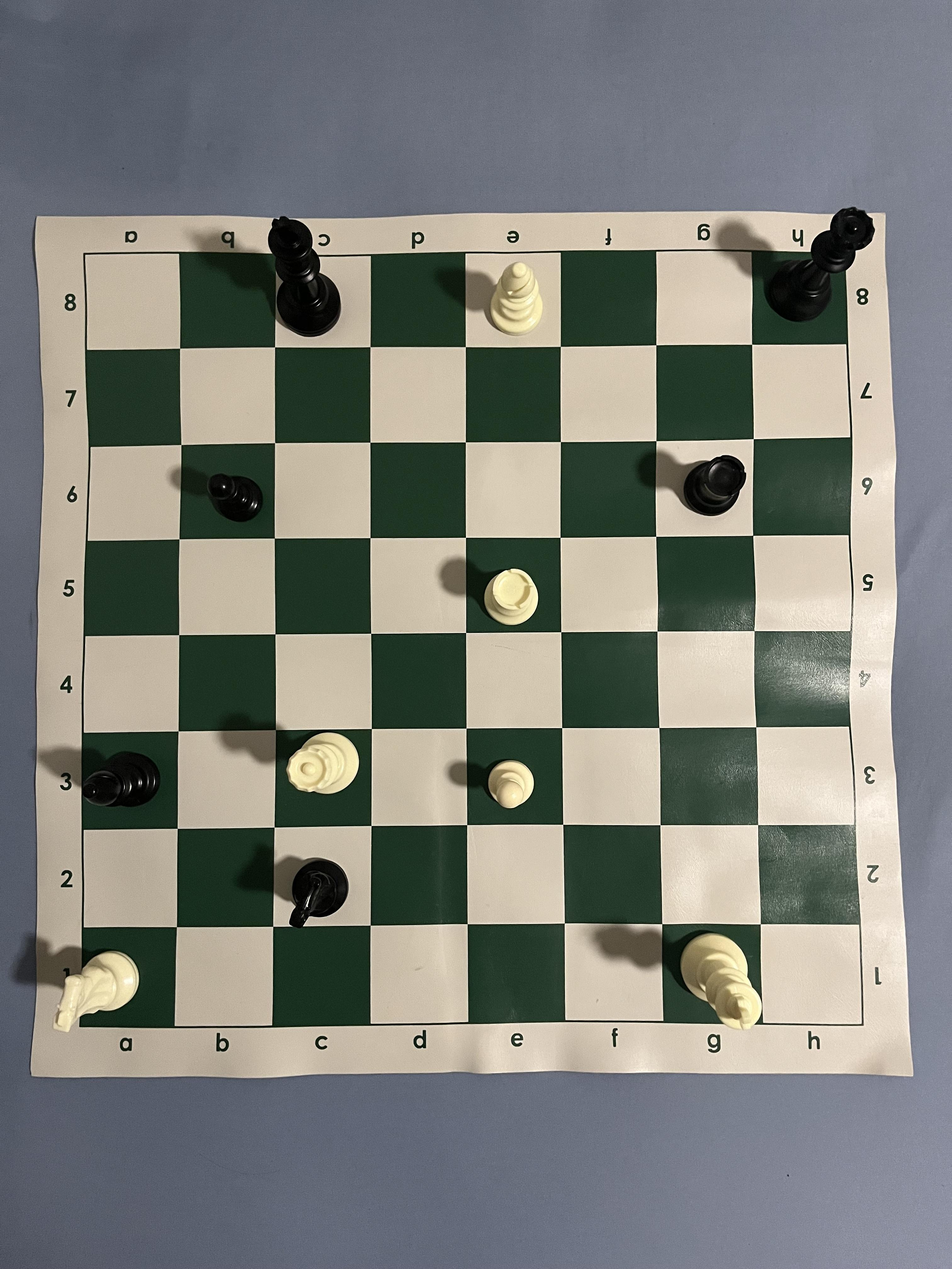black_bishop: (81, 751, 160, 807)
black_king: (267, 216, 342, 338)
black_knight: (289, 858, 349, 928)
black_pawn: (207, 472, 264, 524)
black_queen: (765, 206, 876, 322)
black_rook: (683, 454, 745, 517)
white_bishop: (489, 262, 544, 336)
white_king: (679, 931, 762, 1030)
white_knight: (53, 950, 140, 1032)
white_pawn: (487, 760, 536, 809)
white_queen: (286, 731, 360, 794)
white_rook: (484, 567, 539, 626)
